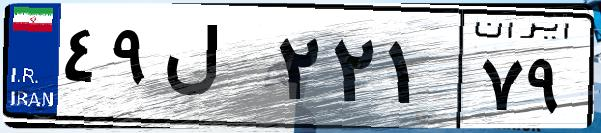1: (385, 28, 445, 110)
2: (270, 28, 330, 110), (330, 28, 385, 110)
4: (57, 26, 110, 100)
7: (475, 38, 525, 113)
9: (525, 38, 570, 115), (110, 28, 158, 98)
ل: (158, 20, 270, 120)
